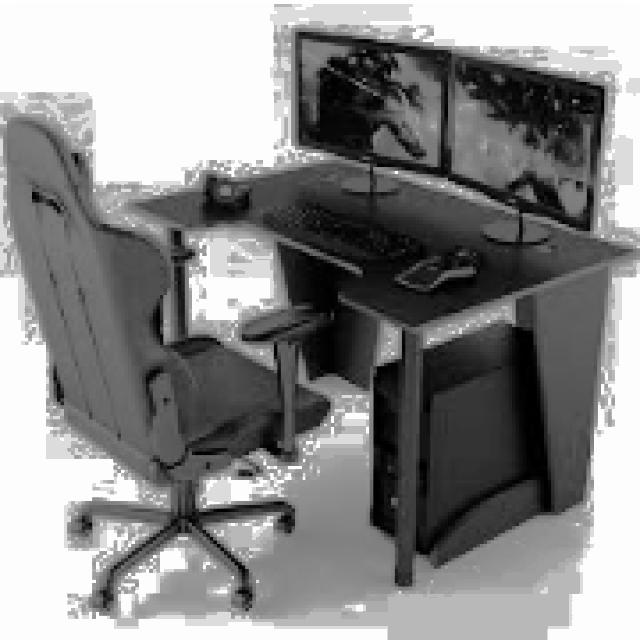book: (3, 114, 330, 612)
table: (128, 153, 636, 587)
